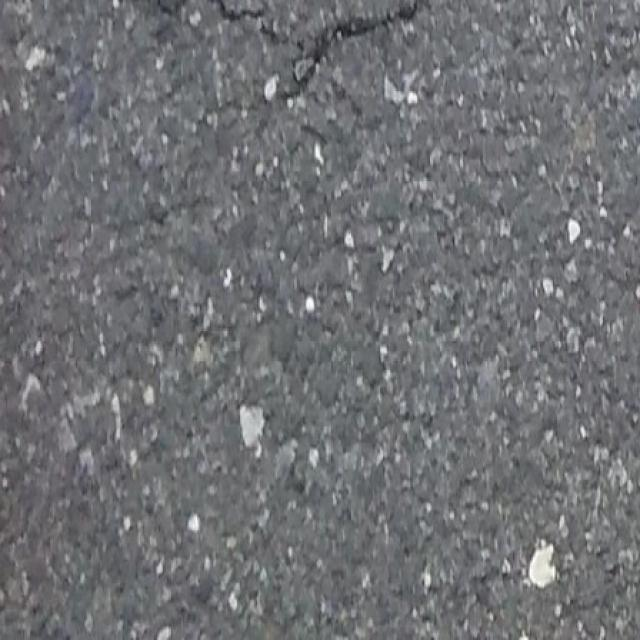Alligator Crack: (145, 0, 425, 108)
